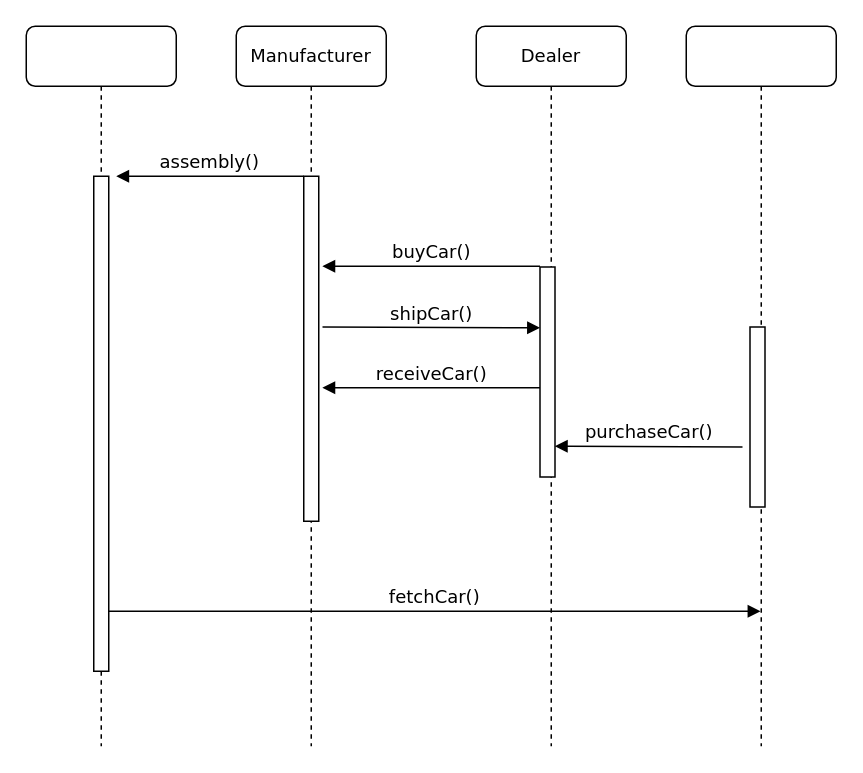
Some shapes in this 863 by 773 pixel diagram are drawn without their labels. The box of each missing label's shape, as (x1, y1, x2, y2) in pixels:
Car: (25, 25, 176, 746)
Consumer: (685, 25, 836, 746)
